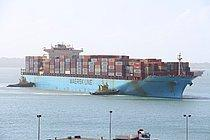Ship: (18, 39, 208, 104)
